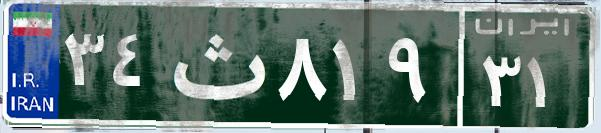1: (330, 28, 385, 110), (525, 38, 570, 115)
3: (57, 26, 110, 107), (475, 38, 525, 113)
4: (110, 28, 158, 105)
8: (273, 28, 330, 110)
9: (385, 28, 445, 110)
ث: (158, 15, 273, 115)
